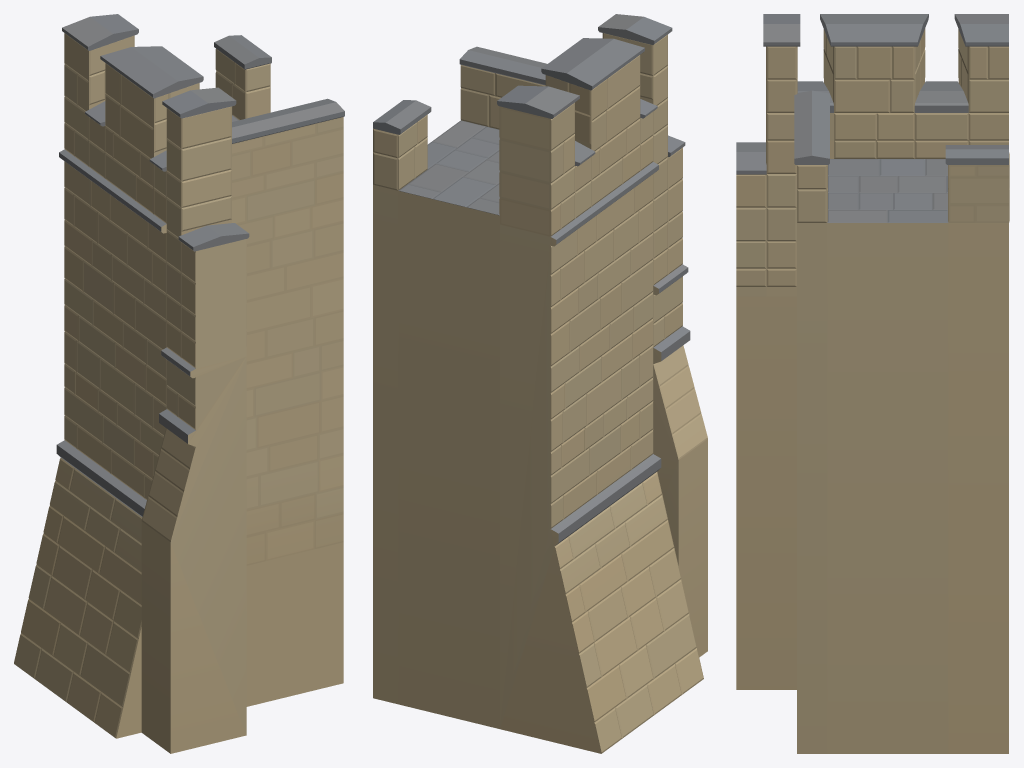
3 renders of one model, left to right at view 1: azimuth 30°, elevation 25°; view 2: azimuth 150°, elevation 25°; view 3: azimuth 270°, elevation 25°, orthographic. The views are drawn at different scales.
Parts seen in each view (by area): view 1: Mesh_Limestone, Mesh_Granite; view 2: Mesh_Limestone, Mesh_Granite; view 3: Mesh_Limestone, Mesh_Granite.
Part boxes in pixels (box(x1,y1,x2,y2)): Mesh_Limestone: box(14, 33, 343, 753); Mesh_Granite: box(56, 14, 344, 516); Mesh_Limestone: box(373, 33, 707, 753); Mesh_Granite: box(373, 14, 690, 545); Mesh_Limestone: box(736, 28, 1009, 753); Mesh_Granite: box(736, 14, 1008, 222).
Size of the model in its own units: 4.06 by 10.7 by 4.06.
